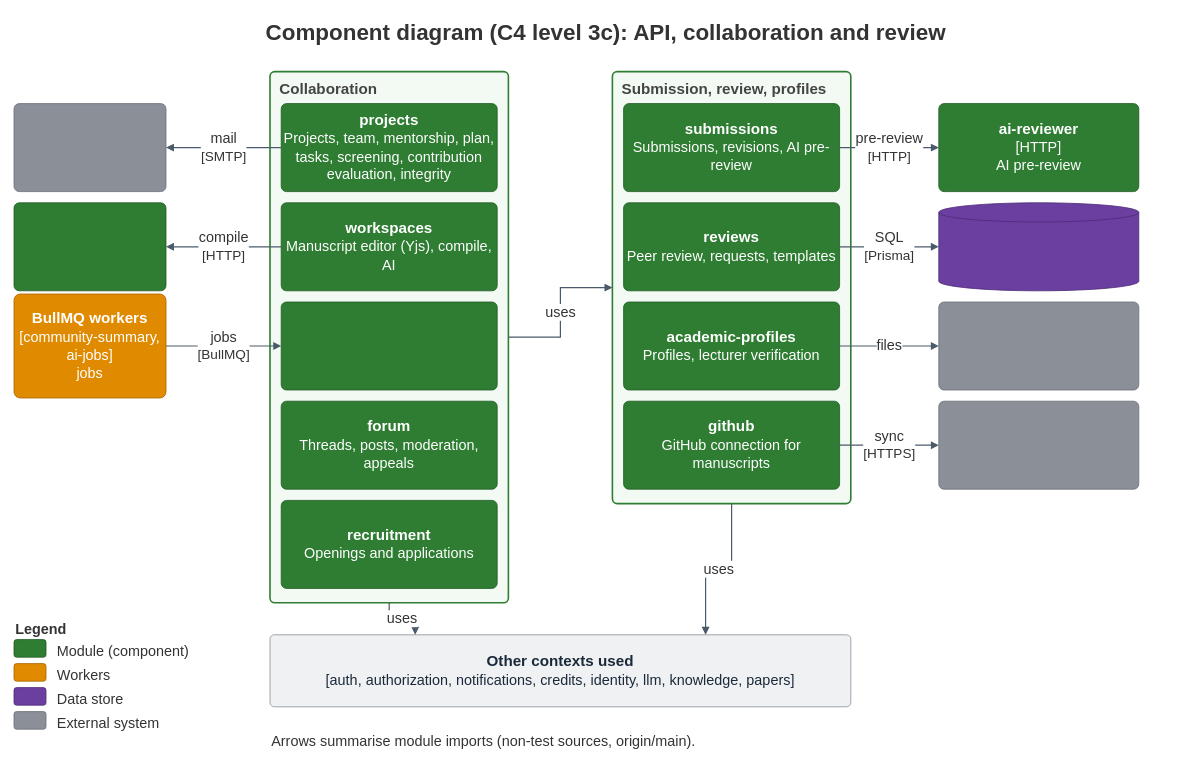
This 1204x765 diagram has some shape labels left out. The shapes that lost their labels are listed below. From the top down, each one's centre as x and y in pixels, then its label:
point (89, 147): SMTP server [SMTP] invitation mail
point (89, 246): LaTeX compiler «optional» [HTTP] manuscript compile
point (1038, 246): PostgreSQL [Prisma] all modules
point (388, 345): communities Communities, membership, summaries
point (1038, 345): File storage [local | R2 | Cloudinary] evidence files
point (1038, 444): GitHub «optional» [HTTPS] repo sync
